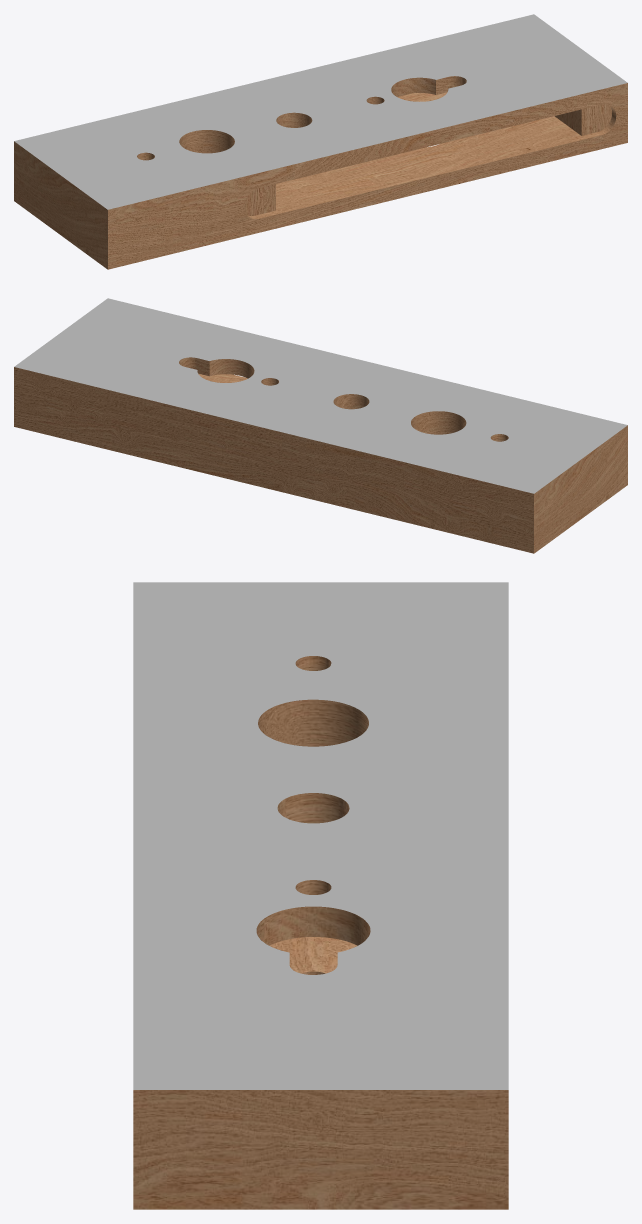
File: TLJ_LOCK .glb
3 views of the same model, one above another, from view 1: azimuth 30°, elevation 25°; view 2: azimuth 150°, elevation 25°; view 3: azimuth 270°, elevation 25° (orthographic). The views are drawn at different scales.
Visible parts, largest first — view 1: unnamed_n3d2, unnamed_n3d; view 2: unnamed_n3d2, unnamed_n3d; view 3: unnamed_n3d2, unnamed_n3d.
Boxes of the visible parts, x1,y1,x2,y2 form: unnamed_n3d2: [14, 14, 627, 209]; unnamed_n3d: [14, 76, 627, 269]; unnamed_n3d2: [14, 298, 627, 493]; unnamed_n3d: [14, 357, 627, 553]; unnamed_n3d2: [133, 582, 508, 1089]; unnamed_n3d: [133, 656, 508, 1209].
Size of the model in its own units: 0.4 by 0.044 by 0.125.
2 materials, 1 textured.
